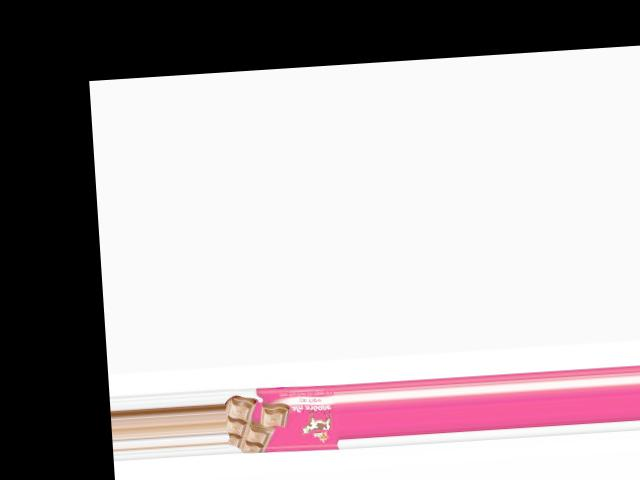chocolate: (225, 383, 340, 455)
